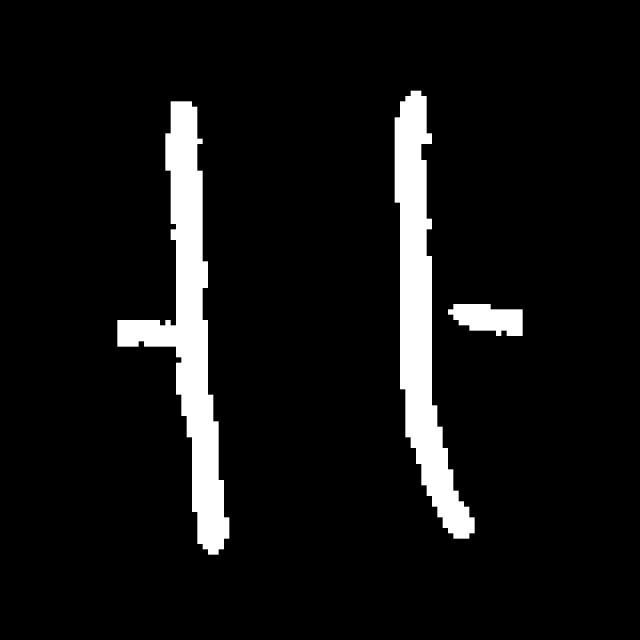capacitor: (156, 75, 481, 563)
